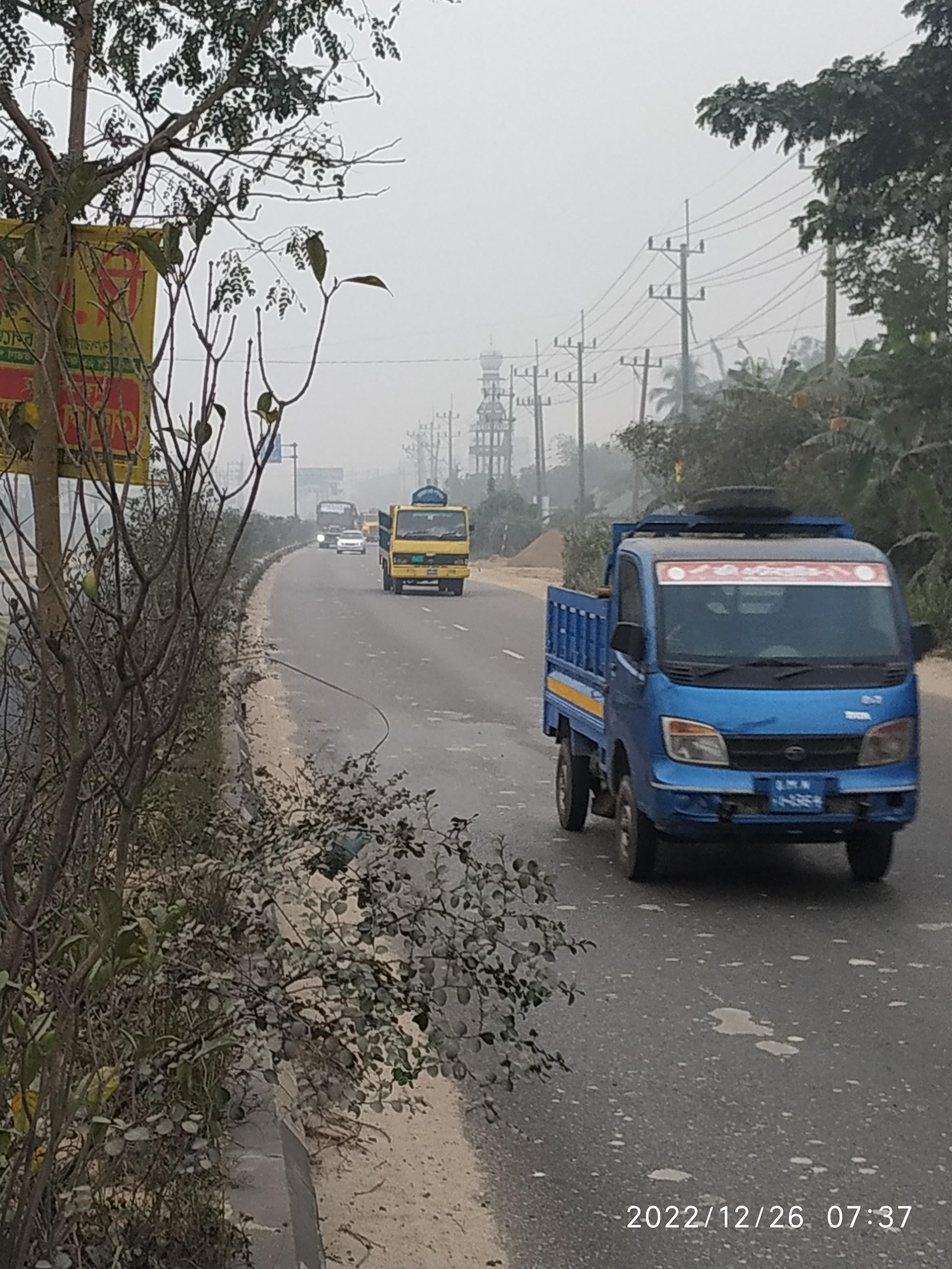Bus: (301, 488, 361, 550)
Car: (325, 525, 387, 562)
Truck: (521, 464, 939, 892), (373, 486, 493, 611)
